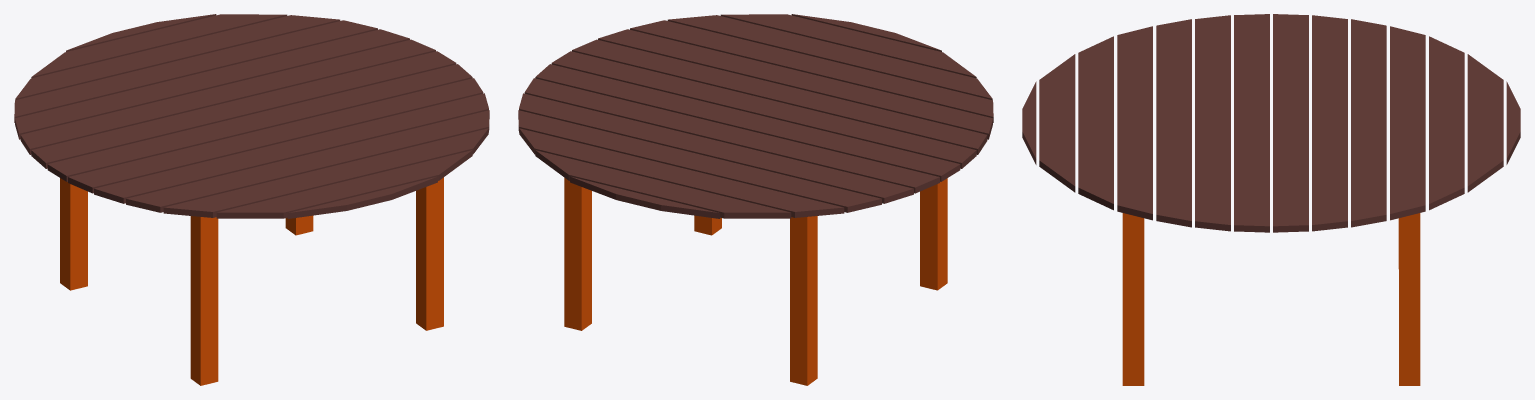
File: GEO_platform_circle_small.fbx
3 renders of one model, left to right at view 1: azimuth 30°, elevation 25°; view 2: azimuth 150°, elevation 25°; view 3: azimuth 270°, elevation 25°, orthographic. The views are drawn at different scales.
Parts seen in each view (by area): view 1: GEO_hut_platform, GEO_hut_pillars; view 2: GEO_hut_platform, GEO_hut_pillars; view 3: GEO_hut_platform, GEO_hut_pillars.
Part boxes in pixels (x1,y1,x2,y2): GEO_hut_platform: [14, 14, 489, 218]; GEO_hut_pillars: [60, 177, 443, 385]; GEO_hut_platform: [518, 14, 993, 218]; GEO_hut_pillars: [564, 177, 947, 385]; GEO_hut_platform: [1022, 14, 1520, 232]; GEO_hut_pillars: [1122, 213, 1420, 385].
Size of the model in its own units: 903 by 402 by 895.
